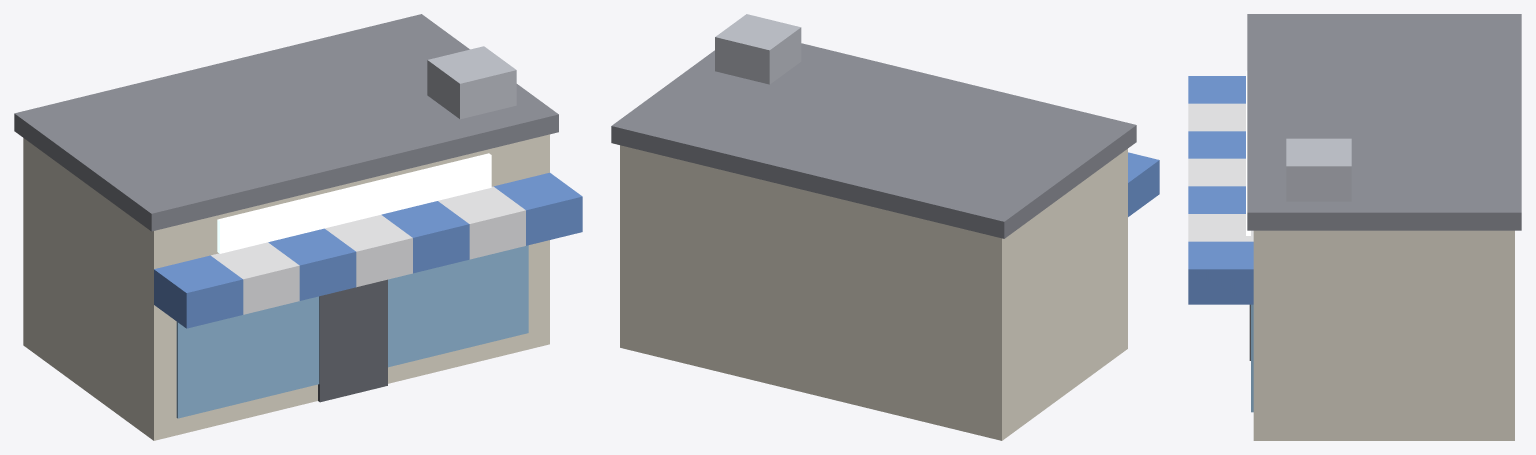
File: city__shop_blue.fbx
The picture shows the model from 3 angles, left to right: view 1: azimuth 30°, elevation 25°; view 2: azimuth 150°, elevation 25°; view 3: azimuth 270°, elevation 25°; orthographic projection. The views are drawn at different scales.
Parts seen in each view (by area): view 1: city__shop_blue; view 2: city__shop_blue; view 3: city__shop_blue.
Boxes of the visible parts, left/top/right/bottom form: city__shop_blue: left=14, top=14, right=582, bottom=440; city__shop_blue: left=611, top=14, right=1159, bottom=440; city__shop_blue: left=1188, top=14, right=1521, bottom=440.
Bounding box in the file's own units: 7.2 × 4.5 × 5.1.
